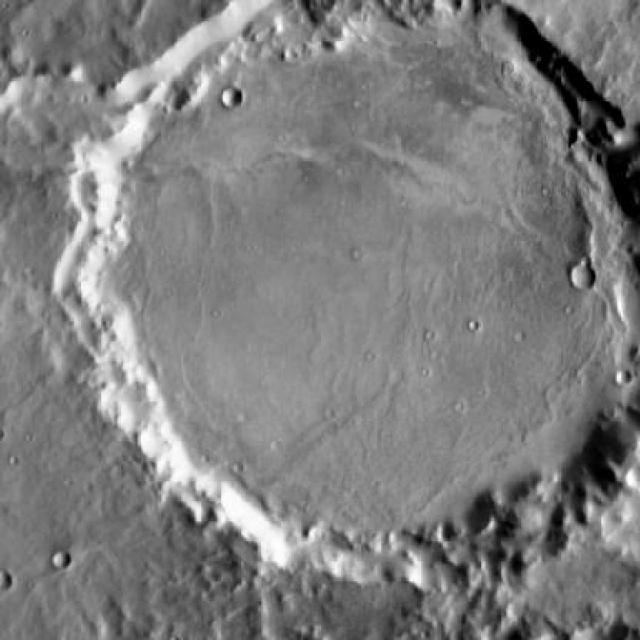crater: (47, 0, 640, 583), (569, 269, 594, 293), (218, 86, 244, 108), (54, 553, 72, 570)
